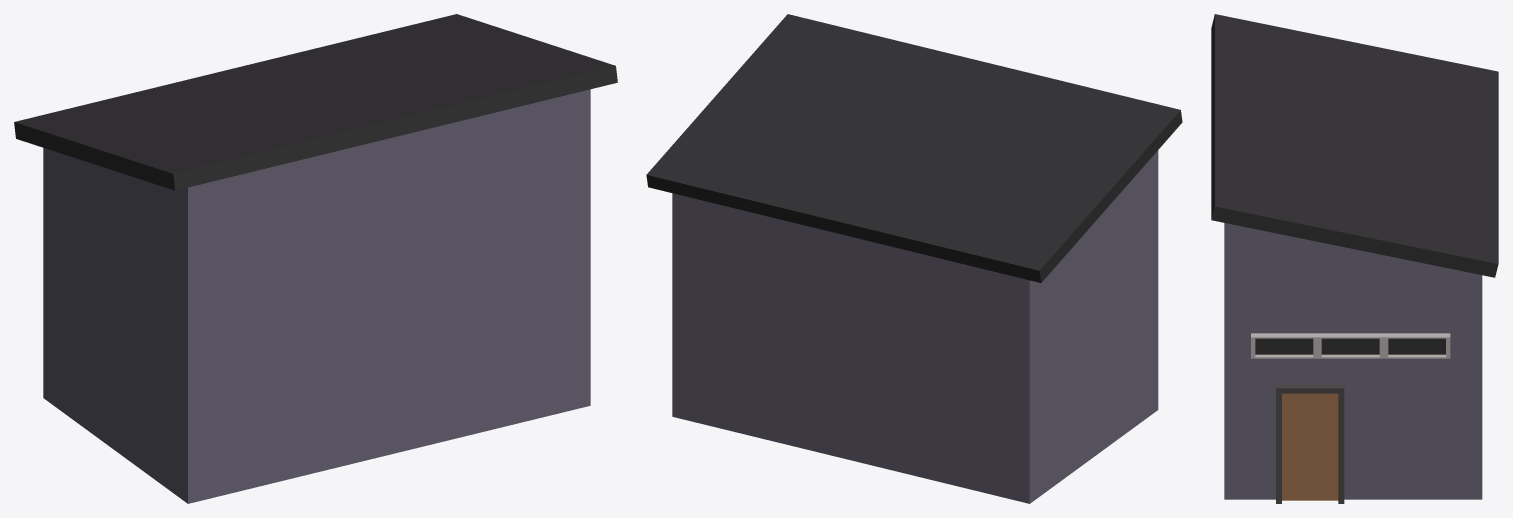
Rendered from level 1.glb.
The picture shows the model from 3 angles, left to right: view 1: azimuth 30°, elevation 25°; view 2: azimuth 150°, elevation 25°; view 3: azimuth 270°, elevation 25°; orthographic projection. The views are drawn at different scales.
Visible parts, largest first — view 1: Cube.022; view 2: Cube.022; view 3: Cube.022.
Part boxes in pixels (x1,y1,x2,y2): Cube.022: [14, 14, 617, 503]; Cube.022: [646, 14, 1182, 503]; Cube.022: [1211, 14, 1498, 503].
Size of the model in its own units: 0.88 by 0.6437 by 0.5545.
